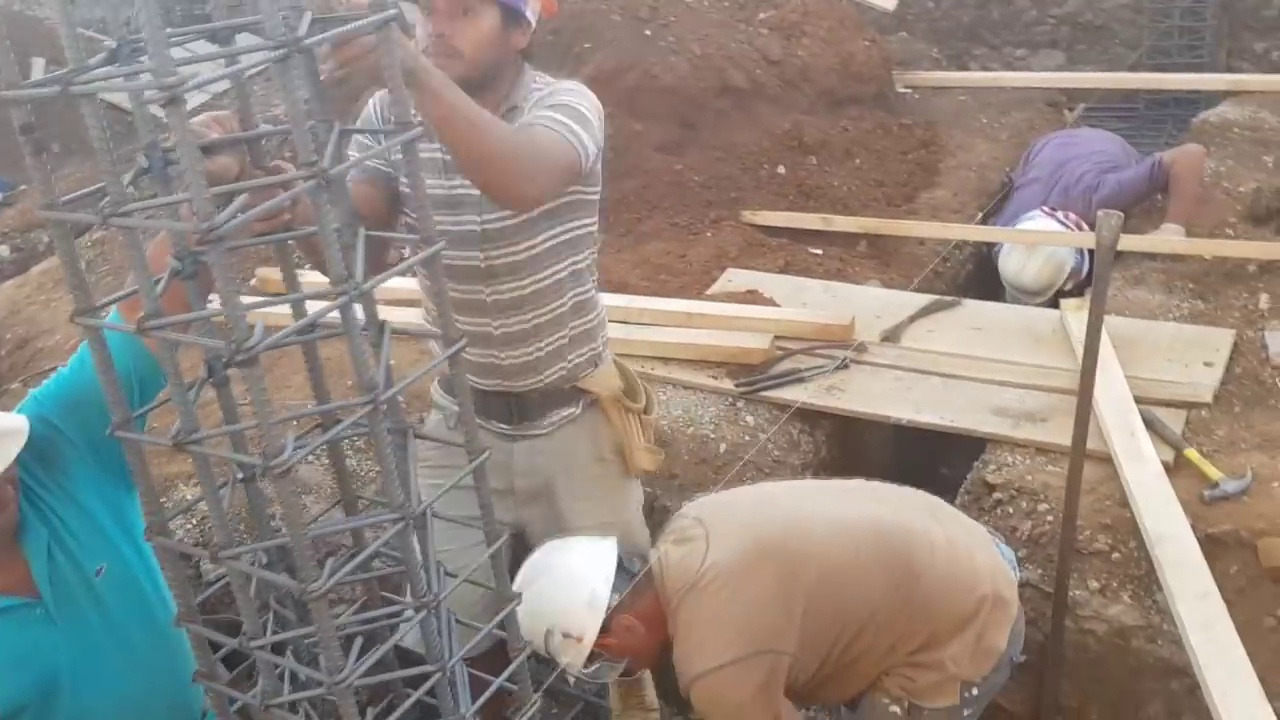helmet: (512, 532, 630, 676), (999, 222, 1076, 306)
helmet-off: (516, 516, 696, 686), (406, 4, 538, 113), (0, 414, 49, 606)
helmet-on: (1000, 207, 1096, 306)
person: (103, 10, 487, 693), (308, 5, 655, 676), (500, 473, 1030, 720), (0, 219, 230, 719), (976, 127, 1206, 309)
